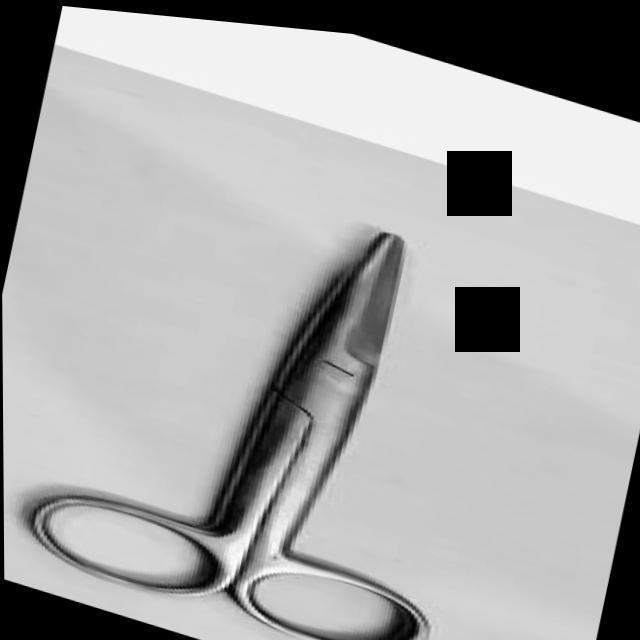Straight Mayo: (1, 127, 524, 640)
